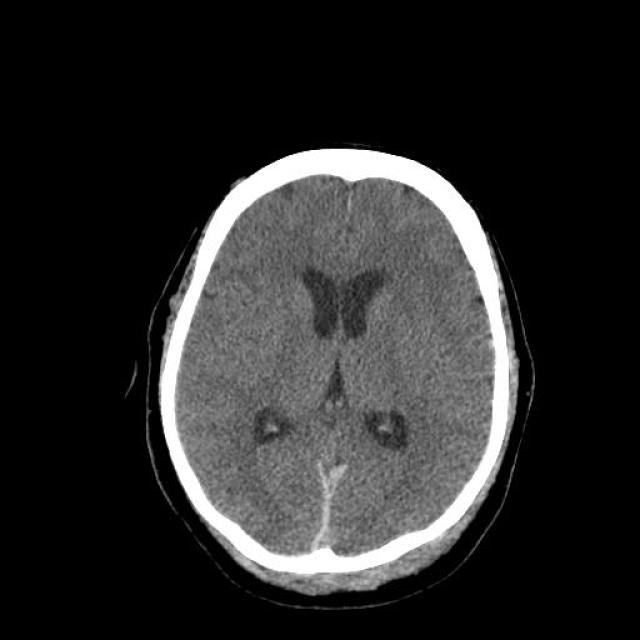Subdural: (288, 453, 362, 568)
